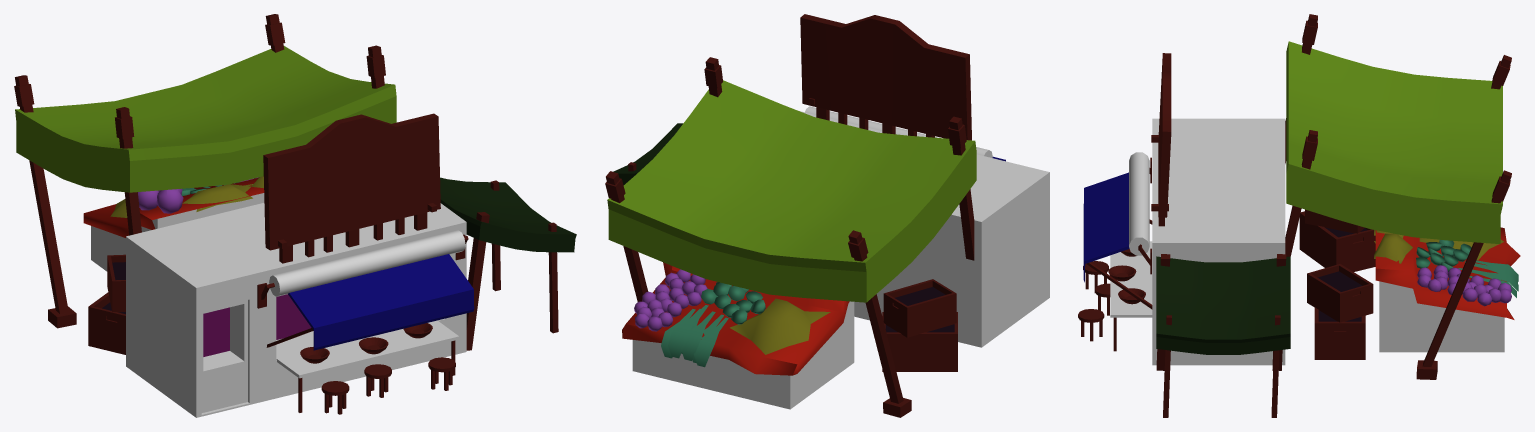
File: SM_StreetFood_V1.fbx
3 views of the same model, side by side, from view 1: azimuth 30°, elevation 25°; view 2: azimuth 150°, elevation 25°; view 3: azimuth 270°, elevation 25° (orthographic). The views are drawn at different scales.
Parts seen in each view (by area): view 1: SM_StreetFood_01, SM_StreetFood_02; view 2: SM_StreetFood_02, SM_StreetFood_01; view 3: SM_StreetFood_02, SM_StreetFood_01.
Boxes of the visible parts, <box> form: SM_StreetFood_01: <box>14,14,558,417</box>; SM_StreetFood_02: <box>15,46,576,350</box>; SM_StreetFood_02: <box>607,80,1005,375</box>; SM_StreetFood_01: <box>605,14,1049,417</box>; SM_StreetFood_02: <box>1083,41,1520,354</box>; SM_StreetFood_01: <box>1078,14,1511,417</box>.
Bounding box in the file's own units: 1999 × 1316 × 2089.
